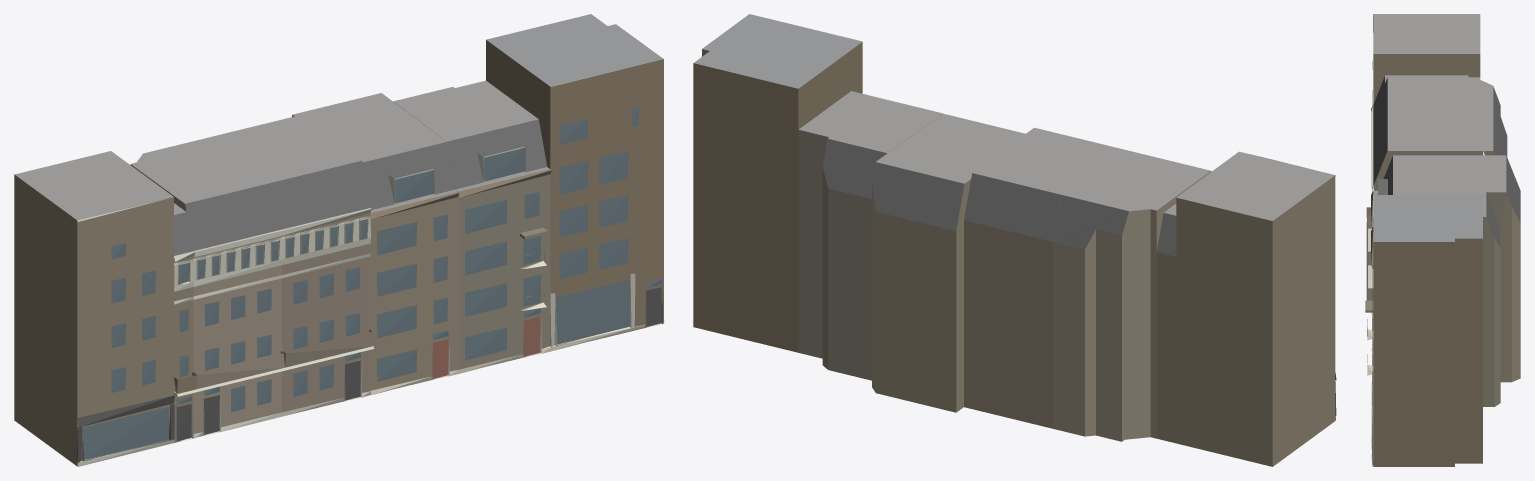
File: chunk-face-evertsen-145-155.lod2.glb
3 views of the same model, side by side, from view 1: azimuth 30°, elevation 25°; view 2: azimuth 150°, elevation 25°; view 3: azimuth 270°, elevation 25° (orthographic). The views are drawn at different scales.
Visible parts, largest first — view 1: lod2; view 2: lod2; view 3: lod2.
Part boxes in pixels (<box>): lod2: <box>14,14,664,466</box>; lod2: <box>693,14,1336,466</box>; lod2: <box>1365,14,1520,466</box>.
Size of the model in its own units: 43.06 by 18.54 by 11.59.
